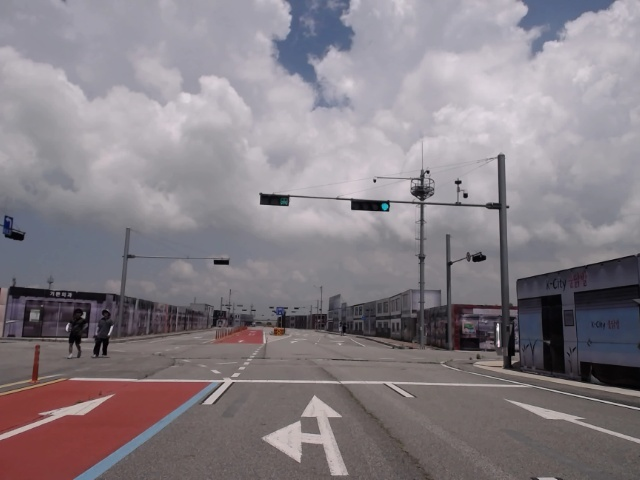straight_green_4: (350, 199, 389, 212)
